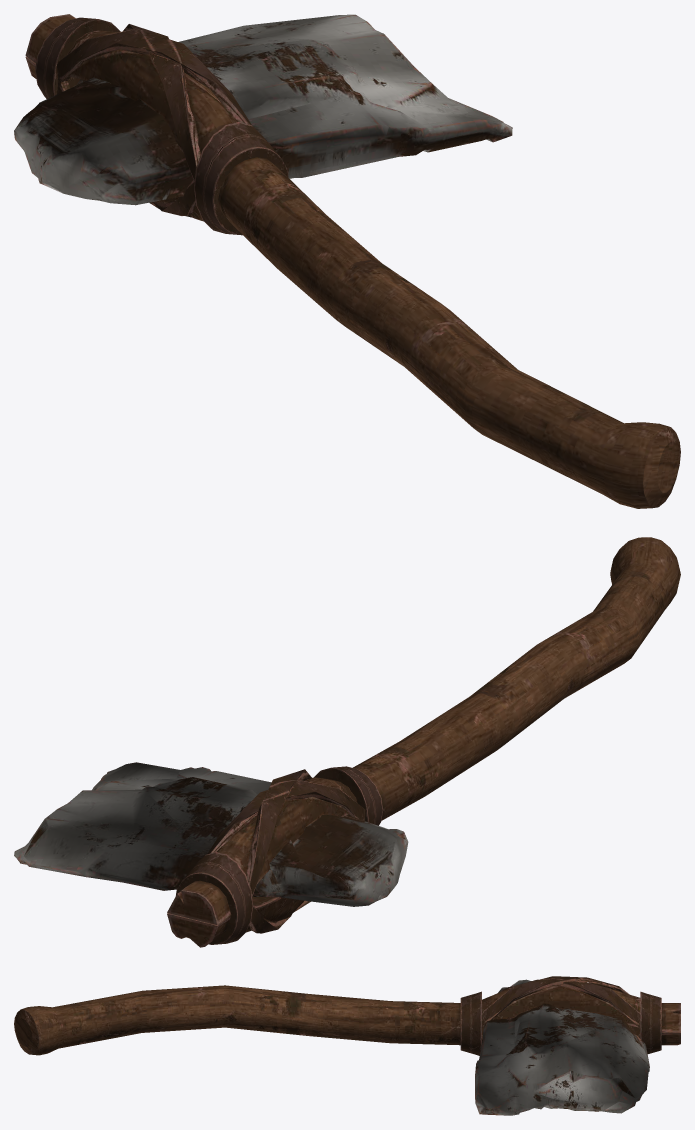
File: alat-batu-dan-jejak-pakai.glb
3 views of the same model, one above another, from view 1: azimuth 30°, elevation 25°; view 2: azimuth 150°, elevation 25°; view 3: azimuth 270°, elevation 25° (orthographic). The views are drawn at different scales.
Visible parts, largest first — view 1: Cylinder001_22 - Default_0; view 2: Cylinder001_22 - Default_0; view 3: Cylinder001_22 - Default_0.
Part boxes in pixels (box(x1,y1,x2,y2)): Cylinder001_22 - Default_0: box(14, 14, 680, 508); Cylinder001_22 - Default_0: box(14, 537, 680, 947); Cylinder001_22 - Default_0: box(14, 976, 680, 1115).
Size of the model in its own units: 7.4 by 2.83 by 18.49.
1 material, 1 textured.
